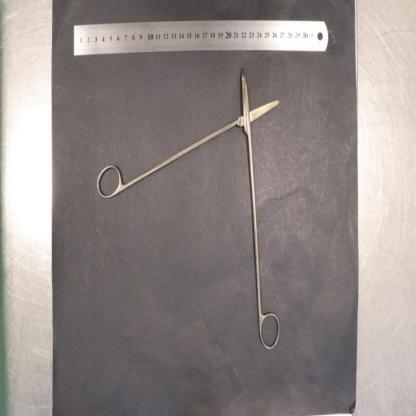9 Metzenbaum Scissors: (97, 64, 282, 353)
